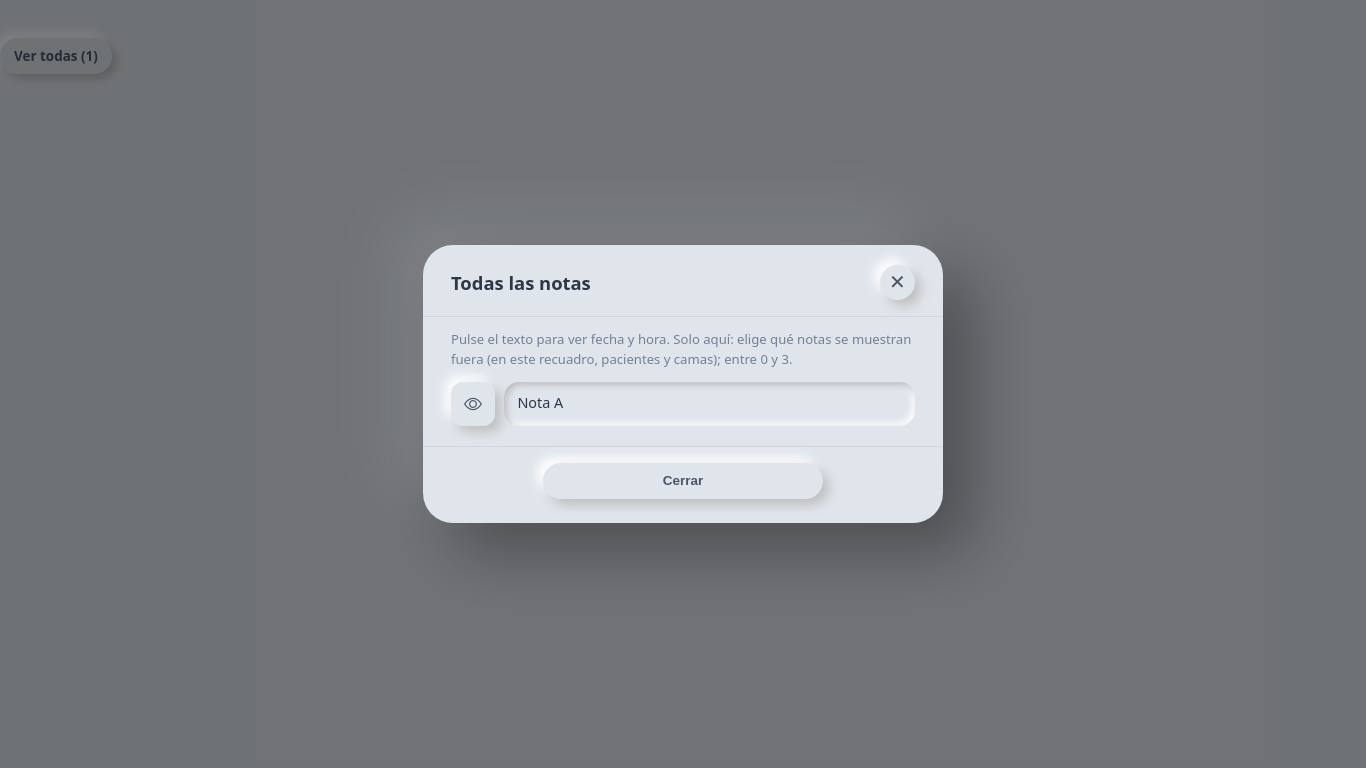
it: NurseClinicalNotesScopeBlockComponent › botón Cerrar y Escape retiran el backdrop teletransportado
The image size is (1366, 768).
What coordinates should you click on to do the following:
click the button with class "close-btn"
I would click on:
 (898, 282)
Its box is [880,265,915,300].
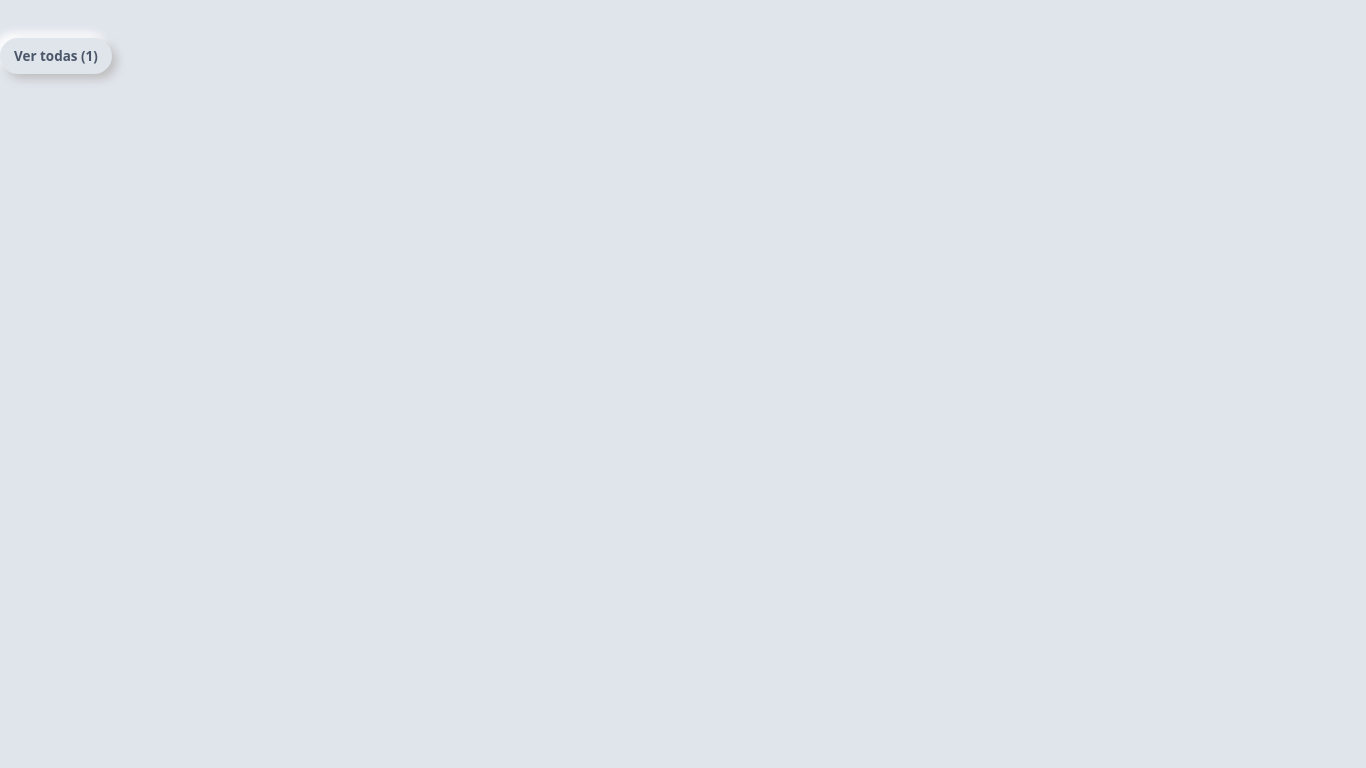
Expected: the element with class "ncnsb-notes-list-backdrop" is gone
